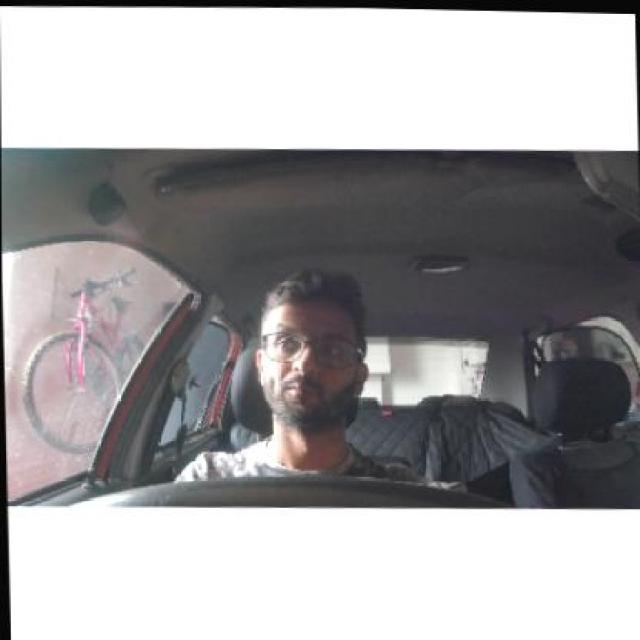person: (250, 262, 372, 436)
